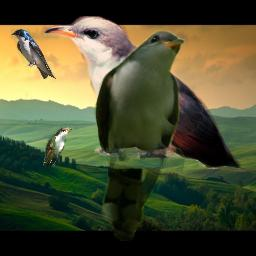Cuckoo: (44, 16, 241, 169), (94, 30, 185, 241), (43, 127, 72, 167)
Swallow: (11, 29, 56, 80)
